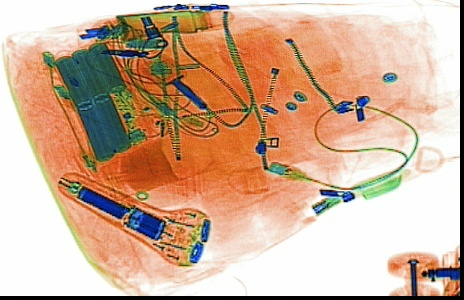powerbank: (51, 37, 155, 165)
